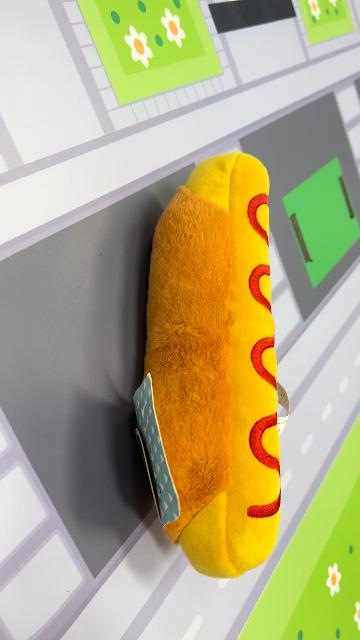hotdog: (132, 150, 284, 580)
